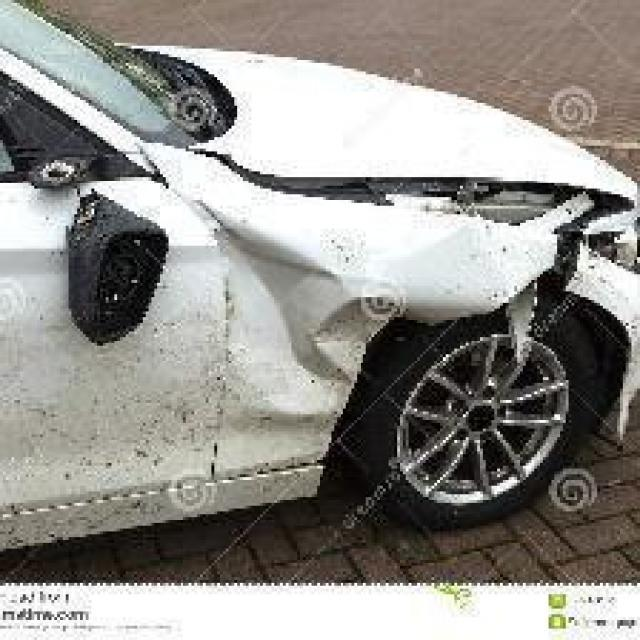damaged: (25, 151, 638, 426)
